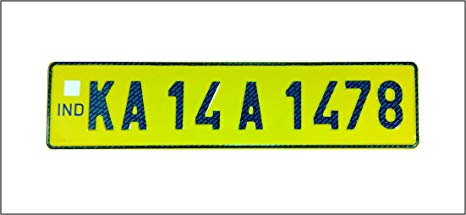number_plate: (46, 60, 422, 153)
